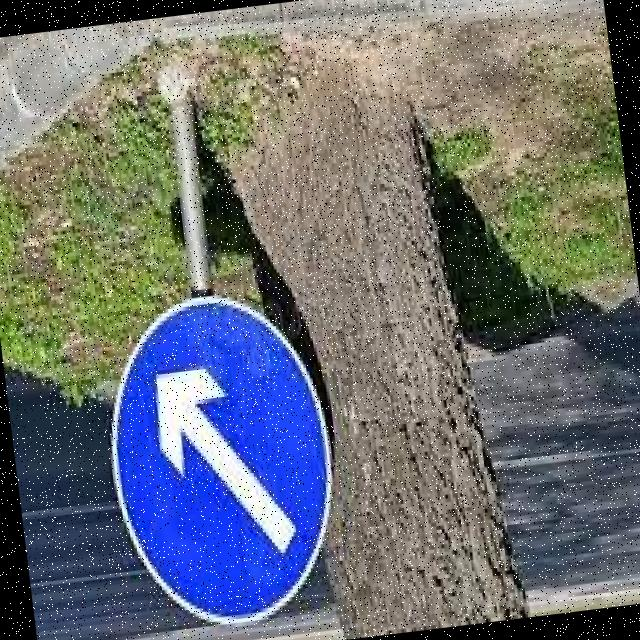compulsory_keep_right: (88, 271, 353, 640)
